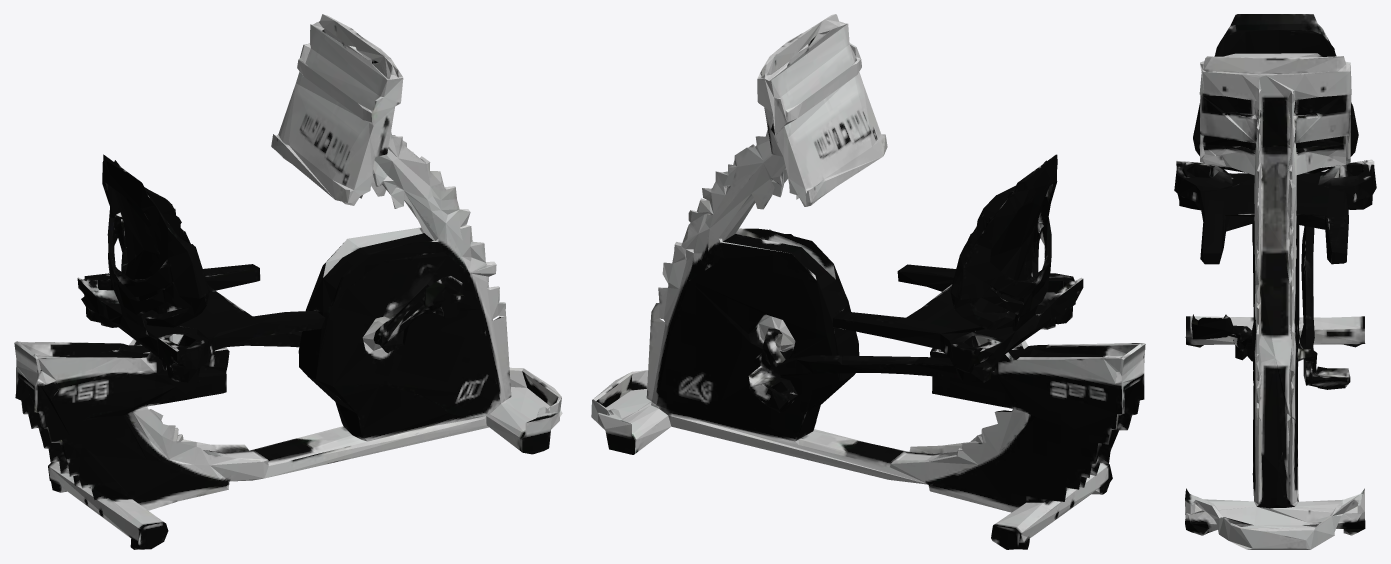
File: k1-nordictrack-gx10-phone.glb
3 renders of one model, left to right at view 1: azimuth 30°, elevation 25°; view 2: azimuth 150°, elevation 25°; view 3: azimuth 270°, elevation 25°, orthographic. The views are drawn at different scales.
Parts seen in each view (by area): view 1: demo_textured.obj; view 2: demo_textured.obj; view 3: demo_textured.obj.
Part boxes in pixels (left/top/right/bottom): demo_textured.obj: left=14, top=14, right=562, bottom=549; demo_textured.obj: left=591, top=14, right=1145, bottom=549; demo_textured.obj: left=1174, top=14, right=1376, bottom=549.
Bounding box in the file's own units: 1.98 × 1.51 × 0.676.
1 material, 1 textured.
